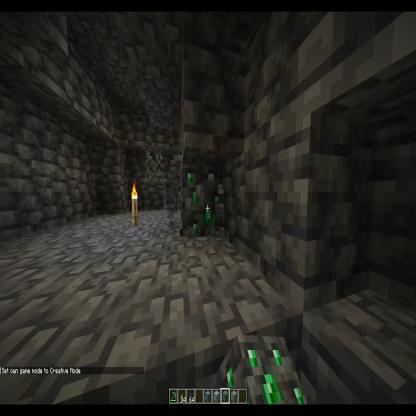emerald ore: (211, 336, 309, 409), (179, 169, 225, 239)
